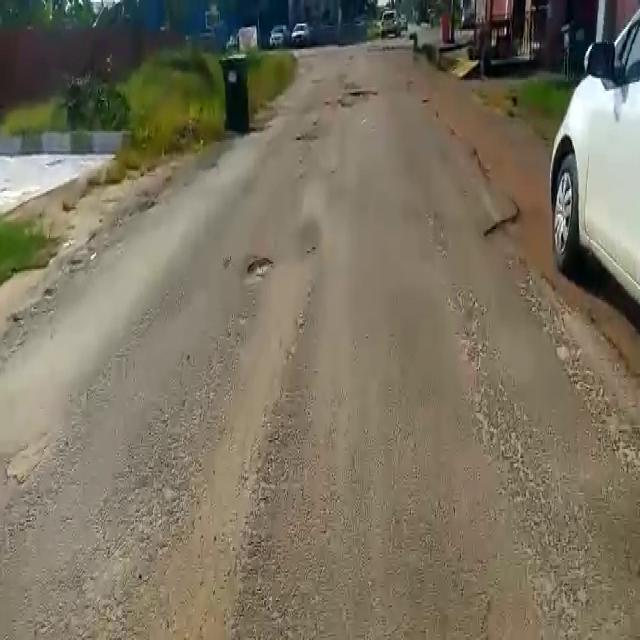pothole: (242, 254, 275, 284)
